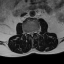CCS_normal: (30, 29, 32, 38)
LFS_normal: (34, 29, 36, 35)
LLS_normal: (32, 29, 34, 35)
RFS_normal: (26, 30, 28, 36)
RLS_normal: (28, 29, 30, 36)
